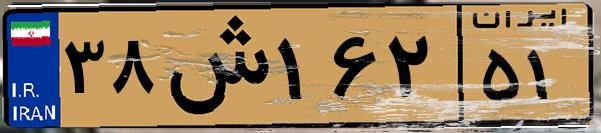1: (270, 28, 330, 110), (525, 38, 570, 115)
2: (385, 28, 445, 110)
3: (57, 26, 110, 100)
5: (475, 38, 525, 113)
6: (330, 28, 385, 110)
8: (110, 28, 158, 98)
ش: (158, 12, 270, 120)
